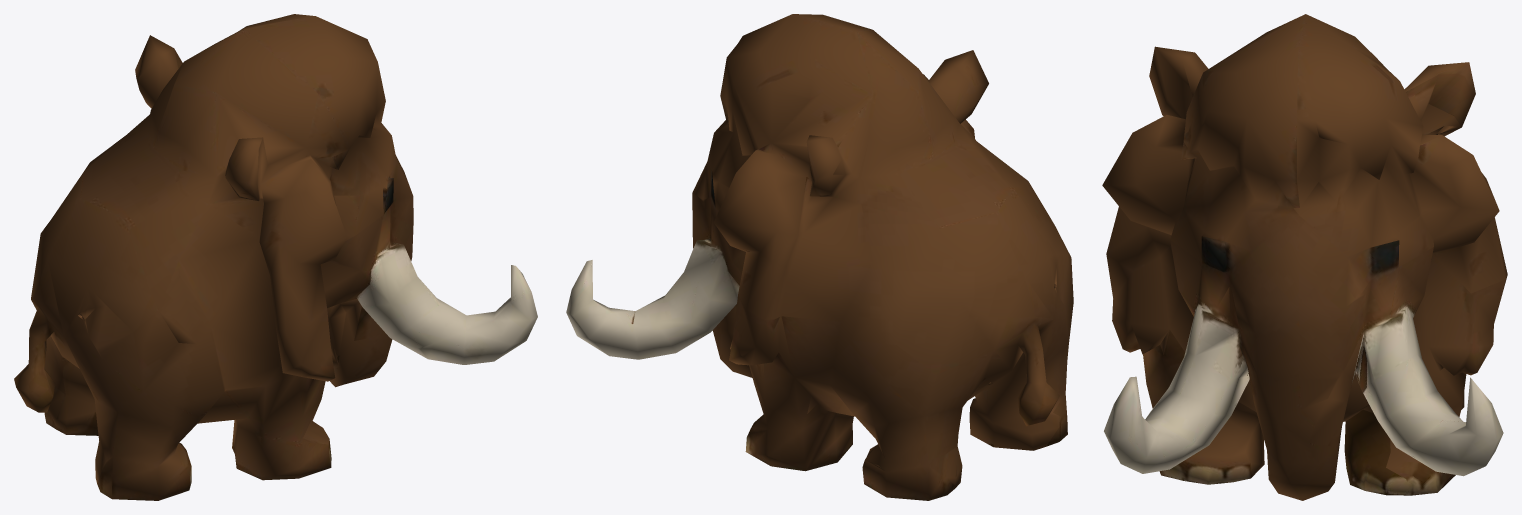
Rendered from woolly-mammoth.glb.
3 views of the same model, side by side, from view 1: azimuth 30°, elevation 25°; view 2: azimuth 150°, elevation 25°; view 3: azimuth 270°, elevation 25° (orthographic). The views are drawn at different scales.
Visible parts, largest first — view 1: ELEPHANT; view 2: ELEPHANT; view 3: ELEPHANT.
Boxes of the visible parts, x1,y1,x2,y2 form: ELEPHANT: (14, 14, 537, 500); ELEPHANT: (566, 14, 1073, 500); ELEPHANT: (1102, 14, 1507, 500).
Size of the model in its own units: 0.3115 by 0.276 by 0.2258.
Materials: 1 (1 with a texture image).
